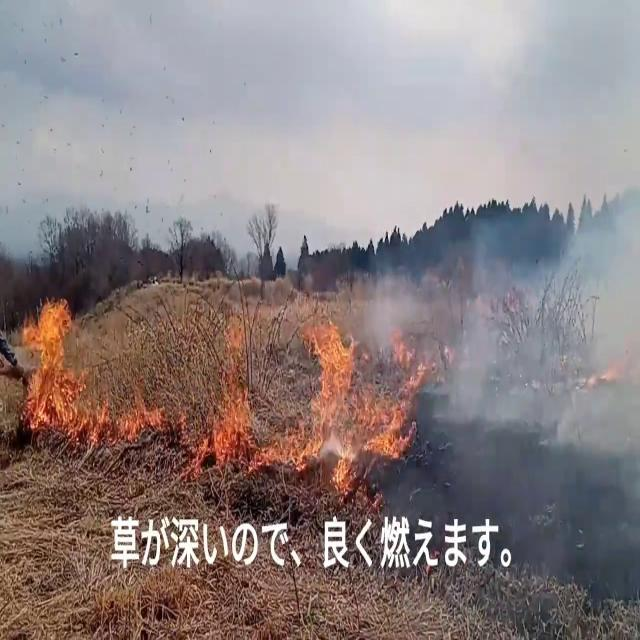Fire: (295, 305, 423, 485), (208, 264, 280, 474), (16, 289, 100, 433), (102, 391, 164, 456)
Smoke: (354, 100, 640, 494)
